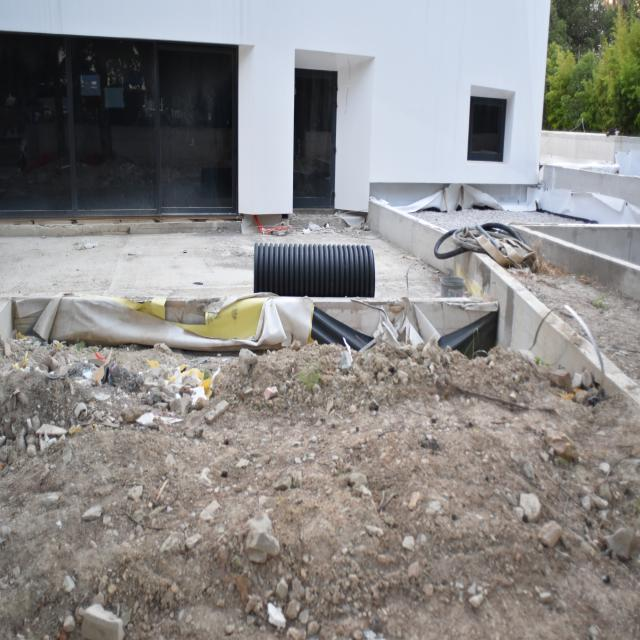entulho: (253, 242, 375, 302), (432, 219, 538, 272), (255, 214, 294, 236)
